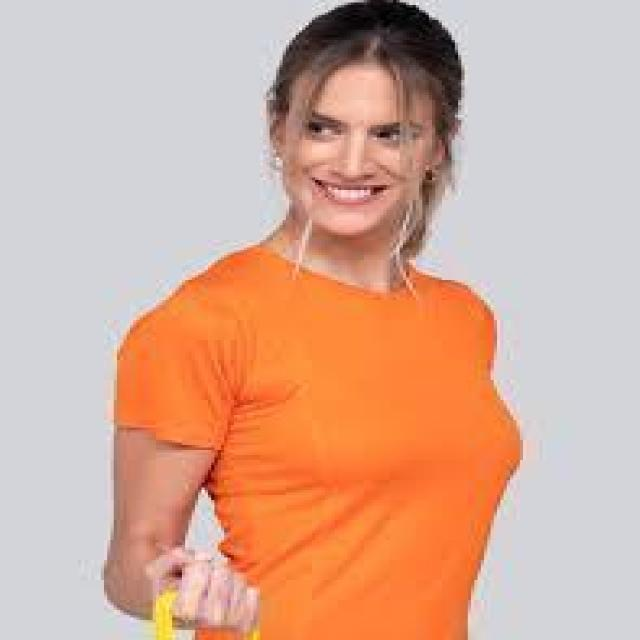Tshirt: (104, 240, 530, 640)
